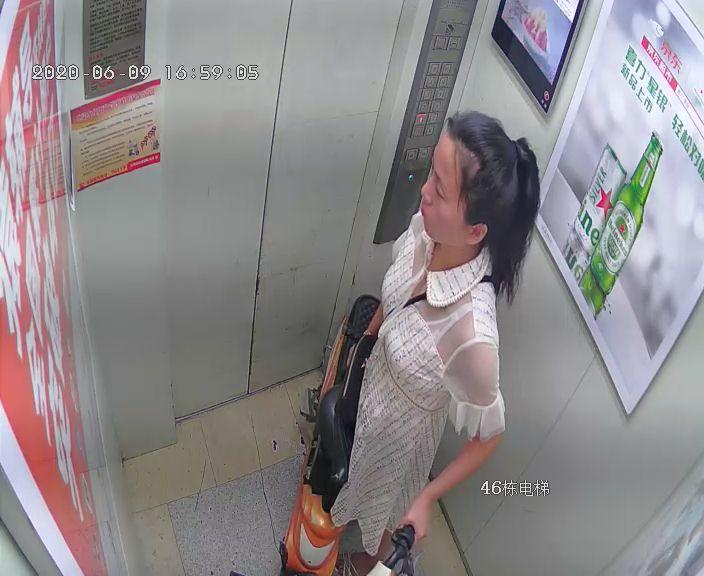Electric-bicycle: (283, 289, 393, 575)
